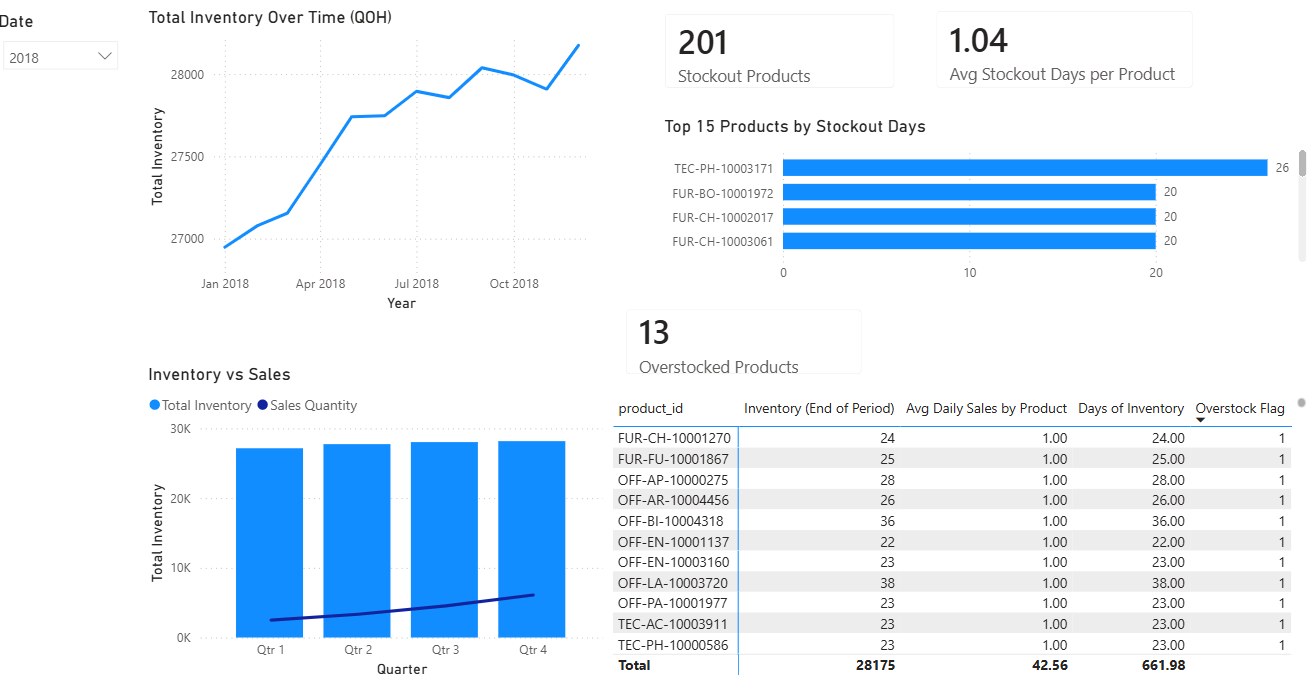

The page's visual inventory and layout, read from the dashboard file:
{"tool":"powerbi","page":{"name":"Inventory Analysis","canvas":[1280,720],"ordinal":1},"visuals":[{"type":"lineChart","title":"Total Inventory Over Time (QOH)","fields":{"Y":["fact_inventory_snapshot.Total Inventory"],"Category":["dim_date.full_date.Variation.Date Hierarchy.Year","dim_date.full_date.Variation.Date Hierarchy.Quarter","dim_date.full_date.Variation.Date Hierarchy.Month"]},"box":[145.6,13.1,451.2,299.8],"z":0},{"type":"lineClusteredColumnComboChart","title":"Inventory vs Sales","fields":{"Category":["dim_date.full_date.Variation.Date Hierarchy.Year","dim_date.full_date.Variation.Date Hierarchy.Quarter","dim_date.full_date.Variation.Date Hierarchy.Month"],"Y2":["fact_sales.Sales quantity"],"Y":["fact_inventory_snapshot.Total Inventory"]},"box":[145.6,359.5,451.2,308.6],"z":1000},{"type":"slicer","title":"Date","fields":{"Values":["dim_date.full_date.Variation.Date Hierarchy.Year","dim_date.full_date.Variation.Date Hierarchy.Quarter","dim_date.full_date.Variation.Date Hierarchy.Month"]},"box":[0,17.5,131,75.7],"z":2000},{"type":"cardVisual","fields":{"Data":["fact_inventory_snapshot.Current Stockout Products"]},"box":[634.6,2.9,257.6,106.3],"z":3000},{"type":"clusteredBarChart","title":"Top 15 Products by Stockout Days","fields":{"Category":["fact_inventory_snapshot.product_id"],"Y":["fact_inventory_snapshot.Stockout Days"]},"box":[646.3,119.4,633.2,170.3],"z":4000},{"type":"cardVisual","fields":{"Data":["fact_inventory_snapshot.Avg Stockout Days per Product"]},"box":[898.1,0,283.8,109.2],"z":5000},{"type":"pivotTable","fields":{"Rows":["dim_product.product_id"],"Values":["fact_inventory_snapshot.Inventory (End of Period)","fact_sales.Avg Daily Sales by Product","fact_inventory_snapshot.Days of Inventory","fact_inventory_snapshot.Overstock Flag"]},"box":[596.8,387.2,682.7,279.5],"z":6000},{"type":"cardVisual","fields":{"Data":["fact_inventory_snapshot.Overstocked Products"]},"box":[596.8,289.7,263.5,97.5],"z":7000}]}

Visuals, with their boxes on the page's 1280x720 design canvas (x1, y1, x2, y2). These are canvas units, not pixel positions in the 1309x697 screenshot, which may show the page scaled, cropped or inside an application window:
"Total Inventory Over Time (QOH)" lineChart: l=146, t=13, r=597, b=313
"Inventory vs Sales" lineClusteredColumnComboChart: l=146, t=360, r=597, b=668
"Date" slicer: l=0, t=18, r=131, b=93
cardVisual - fact_inventory_snapshot.Current Stockout Products: l=635, t=3, r=892, b=109
"Top 15 Products by Stockout Days" clusteredBarChart: l=646, t=119, r=1280, b=290
cardVisual - fact_inventory_snapshot.Avg Stockout Days per Product: l=898, t=0, r=1182, b=109
pivotTable - dim_product.product_id x fact_inventory_snapshot.Inventory (End of Period): l=597, t=387, r=1280, b=667
cardVisual - fact_inventory_snapshot.Overstocked Products: l=597, t=290, r=860, b=387
